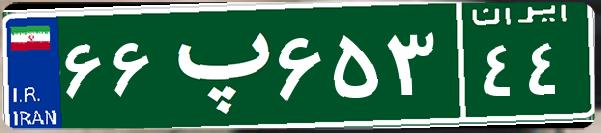3: (385, 28, 445, 110)
4: (475, 38, 525, 113), (525, 38, 570, 115)
5: (330, 28, 385, 110)
6: (273, 28, 330, 110), (57, 26, 110, 107), (110, 28, 158, 105)
پ: (158, 15, 273, 115)
